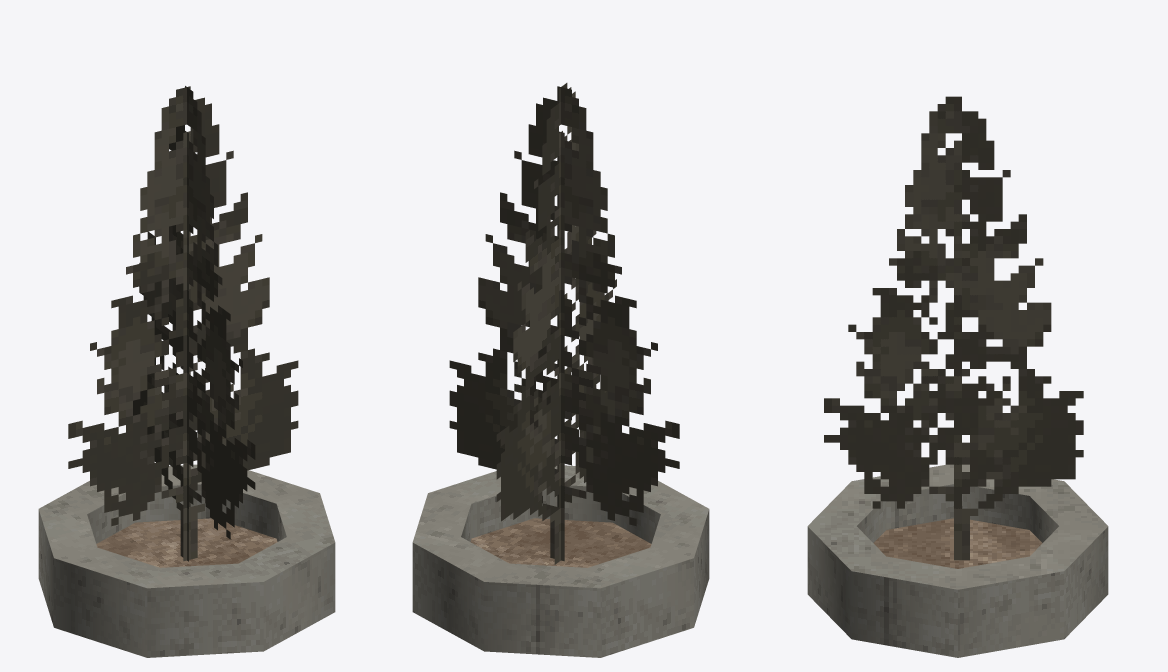
File: tree-park-pine-large.obj
3 renders of one model, left to right at view 1: azimuth 30°, elevation 25°; view 2: azimuth 150°, elevation 25°; view 3: azimuth 270°, elevation 25°, orthographic. The views are drawn at different scales.
Visible parts, largest first — view 1: tree-park-pine-large; view 2: tree-park-pine-large; view 3: tree-park-pine-large.
Boxes of the visible parts, x1,y1,x2,y2 form: tree-park-pine-large: [38, 86, 335, 657]; tree-park-pine-large: [412, 83, 709, 657]; tree-park-pine-large: [807, 96, 1108, 657].
Bounding box in the file's own units: 1.04 × 1.46 × 1.04.
